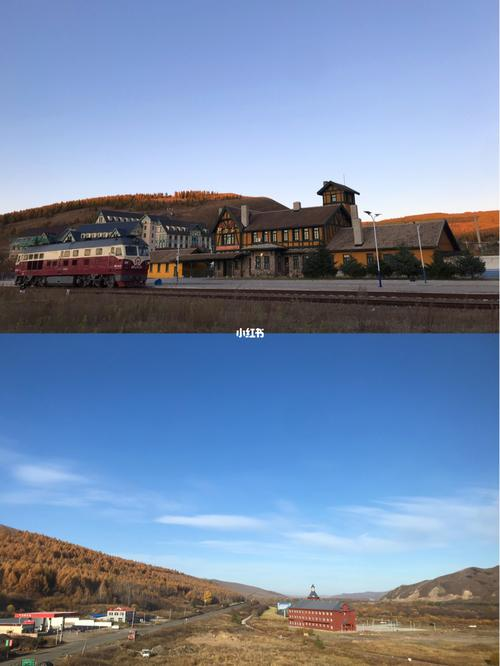sky_cloud: (20, 336, 490, 557), (7, 98, 487, 188)
